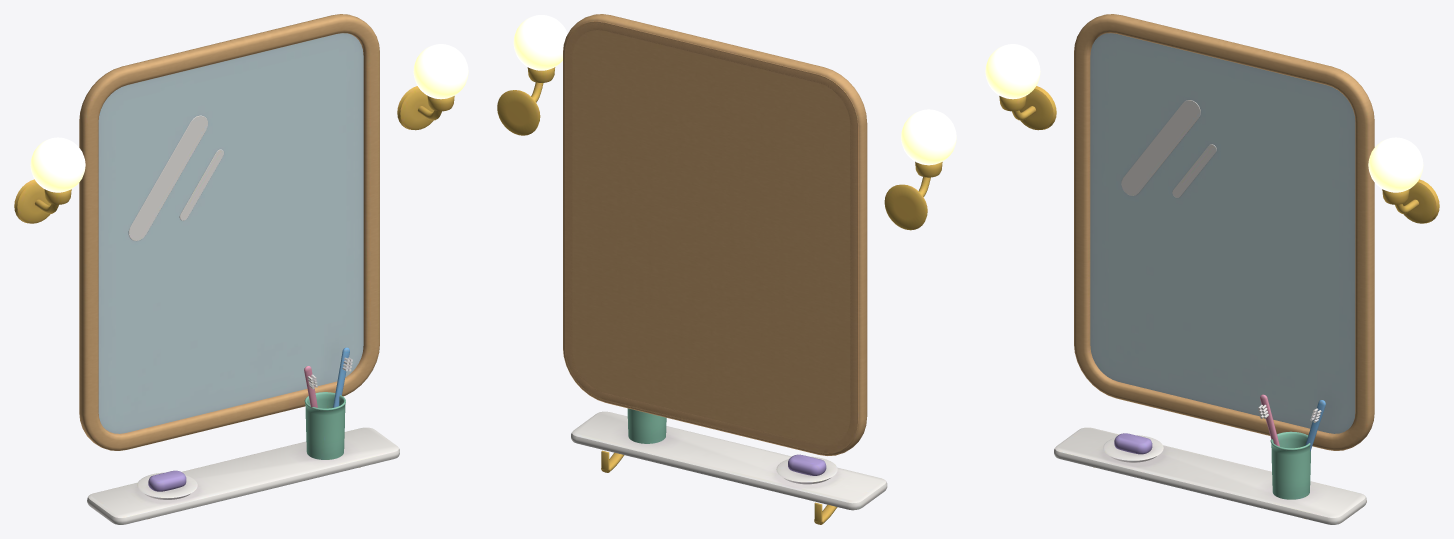
Rendered from bathroom-mirror.glb.
3 views of the same model, side by side, from view 1: azimuth 30°, elevation 25°; view 2: azimuth 150°, elevation 25°; view 3: azimuth 330°, elevation 25° (orthographic).
Visible parts, largest first — view 1: bathroom-mirror_body, bathroom-mirror_lamp_glow; view 2: bathroom-mirror_body, bathroom-mirror_lamp_glow; view 3: bathroom-mirror_body, bathroom-mirror_lamp_glow.
Part boxes in pixels (x1,y1,x2,y2): bathroom-mirror_body: (14,14,454,524); bathroom-mirror_lamp_glow: (30,44,468,192); bathroom-mirror_body: (497,14,942,524); bathroom-mirror_lamp_glow: (513,15,956,165); bathroom-mirror_body: (999,14,1439,524); bathroom-mirror_lamp_glow: (985,44,1423,192).
Bounding box in the file's own units: 0.9 × 0.896 × 0.1354.
2 materials, 1 textured.
